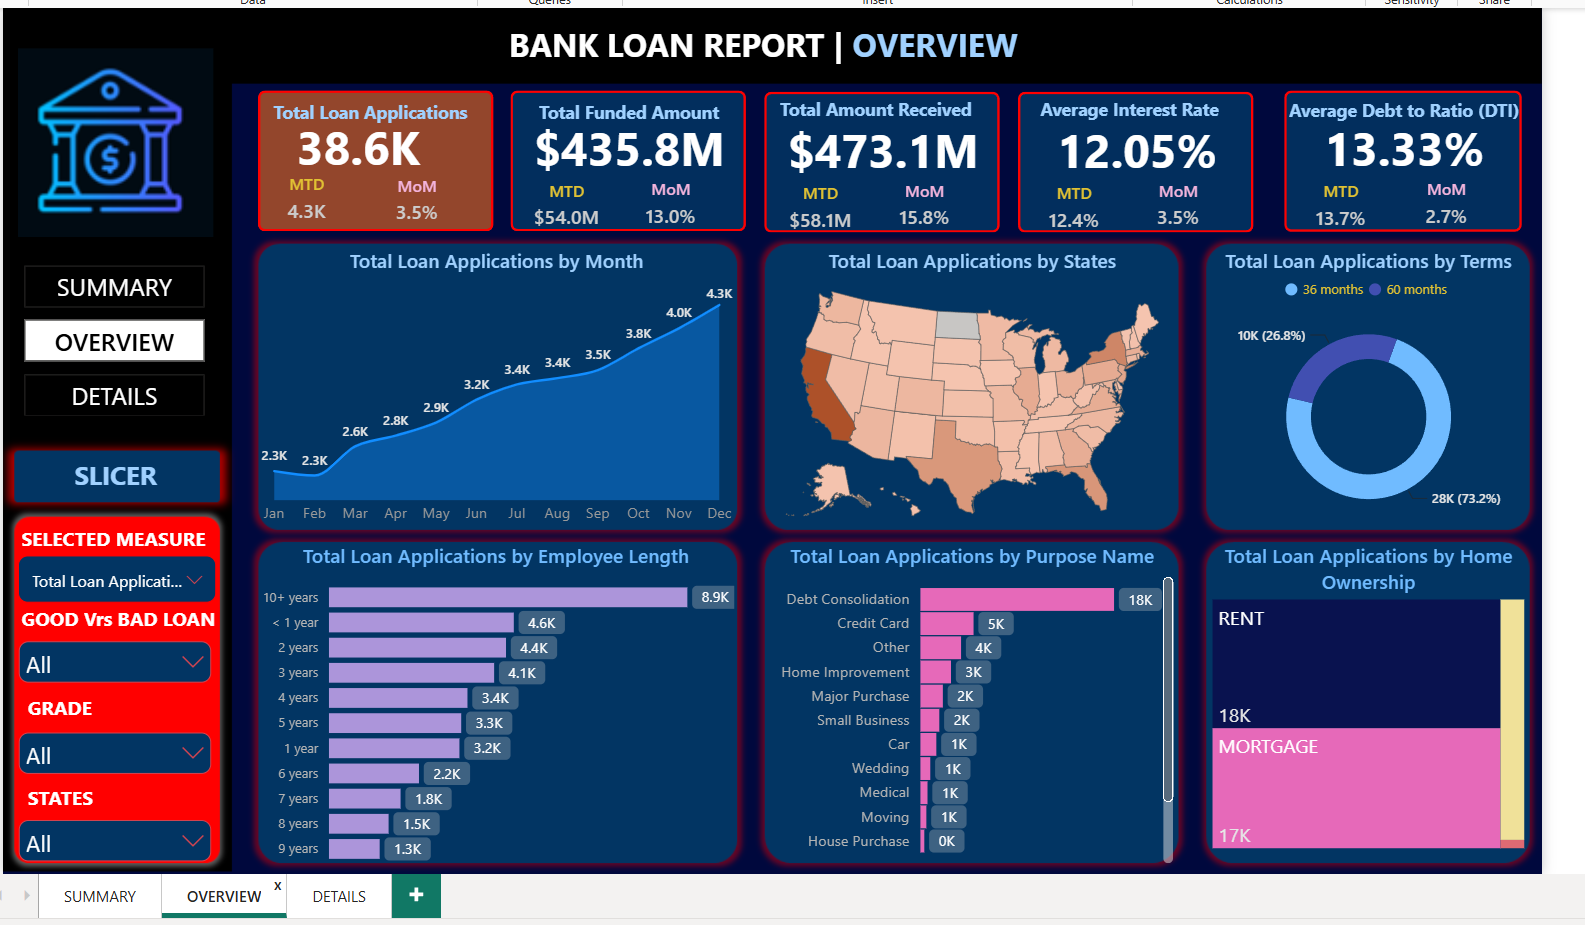

This screenshot's page, from the dashboard's own definition file:
{"tool":"powerbi","page":{"name":"OVERVIEW","canvas":[1280,720],"ordinal":1},"visuals":[{"type":"group","id":"g1","title":"Group 1","box":[204.3,68.6,202.9,120],"z":0},{"type":"shape","box":[211.4,68.6,195.7,117.1],"z":0,"group":"g1"},{"type":"shape","box":[422.5,68.6,195.7,117.1],"z":0,"group":"g2"},{"type":"shape","box":[1065.6,68.6,197.5,117.5],"z":0,"group":"g5"},{"type":"shape","box":[633.5,70,195.7,117.1],"z":0,"group":"g3"},{"type":"shape","box":[844.6,70,195.7,117.1],"z":0,"group":"g4"},{"type":"group","id":"g2","title":"Group 1","box":[421.1,68.6,197.1,124.3],"z":1000},{"type":"card","fields":{"Values":["1  DAX Measures.Average DTI"]},"box":[1076.6,77.7,177.3,77.4],"z":1000,"group":"g5"},{"type":"card","fields":{"Values":["1  DAX Measures.Total Funded Amount"]},"box":[433.3,78,175.7,77.1],"z":1000,"group":"g2"},{"type":"card","fields":{"Values":["1  DAX Measures.Total Amount Received"]},"box":[644.3,79.4,175.7,77.1],"z":1000,"group":"g3"},{"type":"card","fields":{"Values":["1  DAX Measures.Average Interest Rate"]},"box":[855.4,79.4,175.7,77.1],"z":1000,"group":"g4"},{"type":"card","fields":{"Values":["1  DAX Measures.Total Loan Applications"]},"box":[217.2,80,157.1,70],"z":1000,"group":"g1"},{"type":"textbox","box":[415.4,7,449.2,47.4],"z":2000},{"type":"textbox","box":[637.8,68.6,177.1,34.3],"z":2000,"group":"g3"},{"type":"textbox","box":[848.9,68.6,177.1,34.3],"z":2000,"group":"g4"},{"type":"textbox","box":[1064.2,69.7,206.1,31.5],"z":2000,"group":"g5"},{"type":"textbox","box":[435.6,71.3,170,30.9],"z":2000,"group":"g2"},{"type":"textbox","box":[216.8,71.8,176.4,34.5],"z":2000,"group":"g1"},{"type":"group","id":"g3","title":"Group 1","box":[632.1,68.6,197.1,125.7],"z":3000},{"type":"card","title":"MTD","fields":{"Values":["1  DAX Measures.MTD Loan Applications"]},"box":[204.3,137.2,95.7,50],"z":3000,"group":"g1"},{"type":"card","title":"MTD","fields":{"Values":["1  DAX Measures.MTD DTI"]},"box":[1064.2,142.8,96.6,50.1],"z":3000,"group":"g5"},{"type":"card","title":"MTD","fields":{"Values":["1  DAX Measures.MTD Funded Amount"]},"box":[421.1,142.9,95.7,50],"z":3000,"group":"g2"},{"type":"card","title":"MTD","fields":{"Values":["1  DAX Measures.MTD Amount Received"]},"box":[632.1,144.3,95.7,50],"z":3000,"group":"g3"},{"type":"card","title":"MTD","fields":{"Values":["1  DAX Measures.MTD Interest Rate"]},"box":[843.2,144.3,95.7,50],"z":3000,"group":"g4"},{"type":"group","id":"g4","title":"Group 1","box":[843.2,68.6,197.1,125.7],"z":4000},{"type":"card","title":"MoM","fields":{"Values":["1  DAX Measures.MoM Loan Applications"]},"box":[285.7,138.6,117.1,50],"z":4000,"group":"g1"},{"type":"card","title":"MoM","fields":{"Values":["1  DAX Measures.MoM DTI"]},"box":[1140.6,141.4,118.2,50.1],"z":4000,"group":"g5"},{"type":"card","title":"MoM","fields":{"Values":["1  DAX Measures.MoM Funded Amount"]},"box":[496.8,141.5,117.1,50],"z":4000,"group":"g2"},{"type":"card","title":"MoM","fields":{"Values":["1  DAX Measures.MoM Amount Received"]},"box":[707.8,142.9,117.1,50],"z":4000,"group":"g3"},{"type":"card","title":"MoM","fields":{"Values":["1  DAX Measures.MoM Interest Rate"]},"box":[918.9,142.9,117.1,50],"z":4000,"group":"g4"},{"type":"group","id":"g5","title":"Group 1","box":[1064.2,68.6,206.1,124.4],"z":5000},{"type":"slicer","fields":{"Values":["financial_loan.Good vrs Bad Loan"]},"box":[8,522.1,170,45],"z":6000},{"type":"textbox","box":[10,492,174.6,32.2],"z":7000},{"type":"slicer","fields":{"Values":["financial_loan.grade"]},"box":[8,597.1,170,45],"z":8000},{"type":"textbox","box":[15.6,564.9,68.6,34.3],"z":9000},{"type":"textbox","box":[15.6,639.9,74,32.2],"z":10000},{"type":"areaChart","fields":{"Category":["Date Table.Month"],"Y":["1  DAX Measures.Total Loan Applications"]},"box":[212,198.5,397,234.9],"z":11000},{"type":"textbox","box":[10,425.1,176,32.2],"z":12000},{"type":"shapeMap","fields":{"Category":["financial_loan.address_state"],"Value":["1  DAX Measures.Total Loan Applications"]},"box":[634,198.5,344,234.9],"z":13000},{"type":"donutChart","fields":{"Category":["financial_loan.term"],"Y":["1  DAX Measures.Total Loan Applications"]},"box":[1000.8,198.5,269.2,234.9],"z":14000},{"type":"clusteredBarChart","fields":{"Category":["financial_loan.emp_length"],"Y":["1  DAX Measures.Total Loan Applications"]},"box":[212,443.8,396,272.3],"z":15000},{"type":"clusteredBarChart","title":"Total Loan Applications by Purpose Name","fields":{"Category":["financial_loan.Purpose Name"],"Y":["1  DAX Measures.Total Loan Applications"]},"box":[634,443.8,344,272.3],"z":16000},{"type":"treemap","fields":{"Group":["financial_loan.home_ownership"],"Values":["1  DAX Measures.Total Loan Applications"]},"box":[1000.8,443.8,269.2,265],"z":17000},{"type":"pageNavigator","box":[18,214,150,125],"z":18000},{"type":"image","box":[12,31,162,162],"z":19000},{"type":"slicer","fields":{"Values":["financial_loan.State Name"]},"box":[8,670,170,45.7],"z":20000},{"type":"textbox","box":[8.3,368.9,170.4,39.5],"z":21000},{"type":"slicer","fields":{"Values":["Select Measure 2.Select Measure"]},"box":[12,455.1,165,39],"z":22000}]}

Visuals, with their boxes on the page's 1280x720 design canvas (x1, y1, x2, y2). These are canvas units, not pixel positions in the 1585x925 screenshot, which may show the page scaled, cropped or inside an application window:
"Group 1" group: <bbox>204, 69, 407, 189</bbox>
shape: <bbox>211, 69, 407, 186</bbox>
shape: <bbox>422, 69, 618, 186</bbox>
shape: <bbox>1066, 69, 1263, 186</bbox>
shape: <bbox>634, 70, 829, 187</bbox>
shape: <bbox>845, 70, 1040, 187</bbox>
"Group 1" group: <bbox>421, 69, 618, 193</bbox>
card - 1  DAX Measures.Average DTI: <bbox>1077, 78, 1254, 155</bbox>
card - 1  DAX Measures.Total Funded Amount: <bbox>433, 78, 609, 155</bbox>
card - 1  DAX Measures.Total Amount Received: <bbox>644, 79, 820, 156</bbox>
card - 1  DAX Measures.Average Interest Rate: <bbox>855, 79, 1031, 156</bbox>
card - 1  DAX Measures.Total Loan Applications: <bbox>217, 80, 374, 150</bbox>
textbox: <bbox>415, 7, 865, 54</bbox>
textbox: <bbox>638, 69, 815, 103</bbox>
textbox: <bbox>849, 69, 1026, 103</bbox>
textbox: <bbox>1064, 70, 1270, 101</bbox>
textbox: <bbox>436, 71, 606, 102</bbox>
textbox: <bbox>217, 72, 393, 106</bbox>
"Group 1" group: <bbox>632, 69, 829, 194</bbox>
"MTD" card: <bbox>204, 137, 300, 187</bbox>
"MTD" card: <bbox>1064, 143, 1161, 193</bbox>
"MTD" card: <bbox>421, 143, 517, 193</bbox>
"MTD" card: <bbox>632, 144, 728, 194</bbox>
"MTD" card: <bbox>843, 144, 939, 194</bbox>
"Group 1" group: <bbox>843, 69, 1040, 194</bbox>
"MoM" card: <bbox>286, 139, 403, 189</bbox>
"MoM" card: <bbox>1141, 141, 1259, 192</bbox>
"MoM" card: <bbox>497, 142, 614, 192</bbox>
"MoM" card: <bbox>708, 143, 825, 193</bbox>
"MoM" card: <bbox>919, 143, 1036, 193</bbox>
"Group 1" group: <bbox>1064, 69, 1270, 193</bbox>
slicer - financial_loan.Good vrs Bad Loan: <bbox>8, 522, 178, 567</bbox>
textbox: <bbox>10, 492, 185, 524</bbox>
slicer - financial_loan.grade: <bbox>8, 597, 178, 642</bbox>
textbox: <bbox>16, 565, 84, 599</bbox>
textbox: <bbox>16, 640, 90, 672</bbox>
areaChart - Date Table.Month x 1  DAX Measures.Total Loan Applications: <bbox>212, 198, 609, 433</bbox>
textbox: <bbox>10, 425, 186, 457</bbox>
shapeMap - financial_loan.address_state x 1  DAX Measures.Total Loan Applications: <bbox>634, 198, 978, 433</bbox>
donutChart - financial_loan.term x 1  DAX Measures.Total Loan Applications: <bbox>1001, 198, 1270, 433</bbox>
clusteredBarChart - financial_loan.emp_length x 1  DAX Measures.Total Loan Applications: <bbox>212, 444, 608, 716</bbox>
"Total Loan Applications by Purpose Name" clusteredBarChart: <bbox>634, 444, 978, 716</bbox>
treemap - financial_loan.home_ownership x 1  DAX Measures.Total Loan Applications: <bbox>1001, 444, 1270, 709</bbox>
pageNavigator: <bbox>18, 214, 168, 339</bbox>
image: <bbox>12, 31, 174, 193</bbox>
slicer - financial_loan.State Name: <bbox>8, 670, 178, 716</bbox>
textbox: <bbox>8, 369, 179, 408</bbox>
slicer - Select Measure 2.Select Measure: <bbox>12, 455, 177, 494</bbox>
